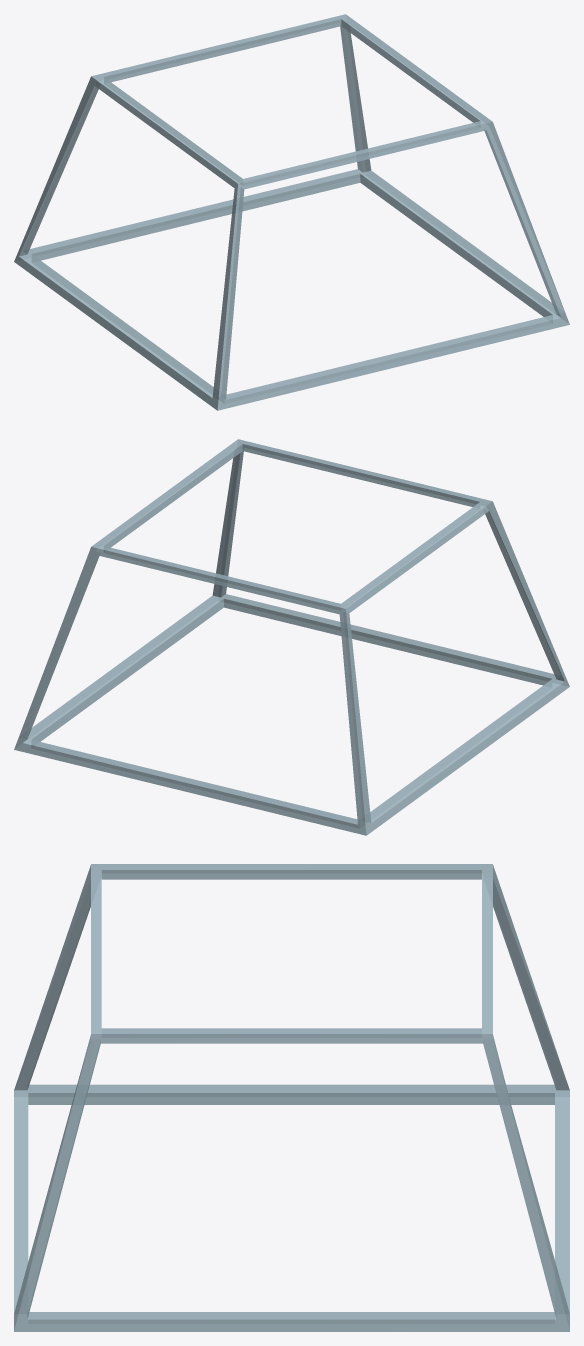
Rendered from Button Protection Lid.fbx.
3 views of the same model, one above another, from view 1: azimuth 30°, elevation 25°; view 2: azimuth 150°, elevation 25°; view 3: azimuth 270°, elevation 25° (orthographic). The views are drawn at different scales.
Visible parts, largest first — view 1: pCube13; view 2: pCube13; view 3: pCube13.
Part boxes in pixels (x1=…): pCube13: x1=14, y1=14, x2=569, y2=410; pCube13: x1=14, y1=439, x2=569, y2=835; pCube13: x1=14, y1=864, x2=569, y2=1331.
Bounding box in the file's own units: 124 × 65.24 × 124.
